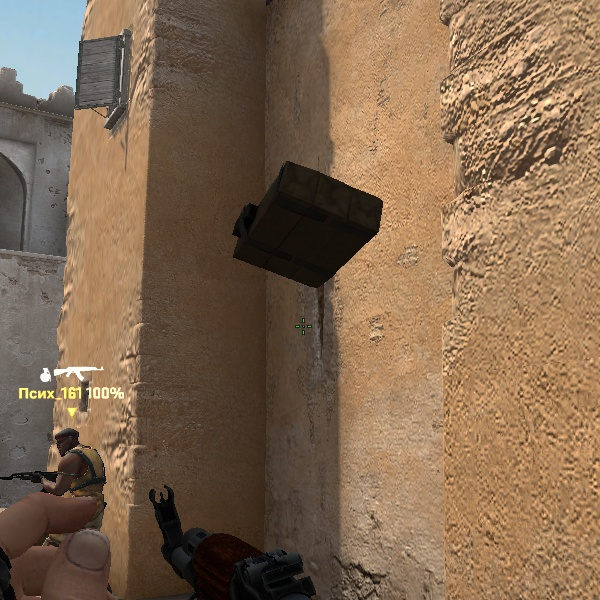t_body: (37, 426, 107, 496)
t_head: (54, 426, 82, 458)
